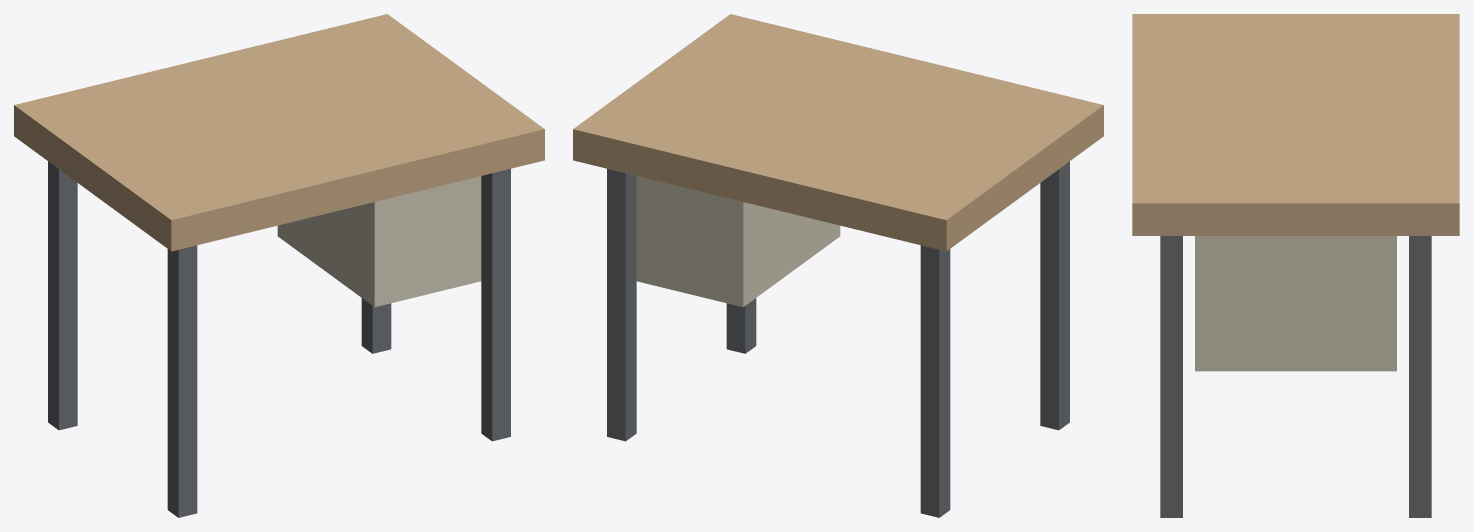
The model's file is desk_03.glb.
3 renders of one model, left to right at view 1: azimuth 30°, elevation 25°; view 2: azimuth 150°, elevation 25°; view 3: azimuth 270°, elevation 25°, orthographic. The views are drawn at different scales.
Parts seen in each view (by area): view 1: top, drawer, leg-0.420.2774, leg0.420.2774, leg-0.42-0.2774, leg0.42-0.2774; view 2: top, drawer, leg-0.42-0.2774, leg0.42-0.2774, leg-0.420.2774, leg0.420.2774; view 3: top, drawer, leg0.42-0.2774, leg0.420.2774.
Part boxes in pixels (x1,y1,x2,y2): top: [14, 14, 544, 251]; drawer: [277, 176, 481, 307]; leg-0.420.2774: [167, 245, 197, 517]; leg0.420.2774: [481, 169, 510, 441]; leg-0.42-0.2774: [48, 161, 77, 430]; leg0.42-0.2774: [361, 298, 391, 353]; top: [573, 14, 1103, 251]; drawer: [636, 176, 840, 307]; leg-0.42-0.2774: [920, 245, 950, 517]; leg0.42-0.2774: [607, 169, 636, 441]; leg-0.420.2774: [1040, 161, 1069, 430]; leg0.420.2774: [726, 298, 756, 353]; top: [1132, 14, 1459, 235]; drawer: [1195, 236, 1396, 371]; leg0.42-0.2774: [1409, 236, 1431, 517]; leg0.420.2774: [1160, 236, 1182, 517].
Size of the model in its own units: 1 by 0.8 by 0.73.
